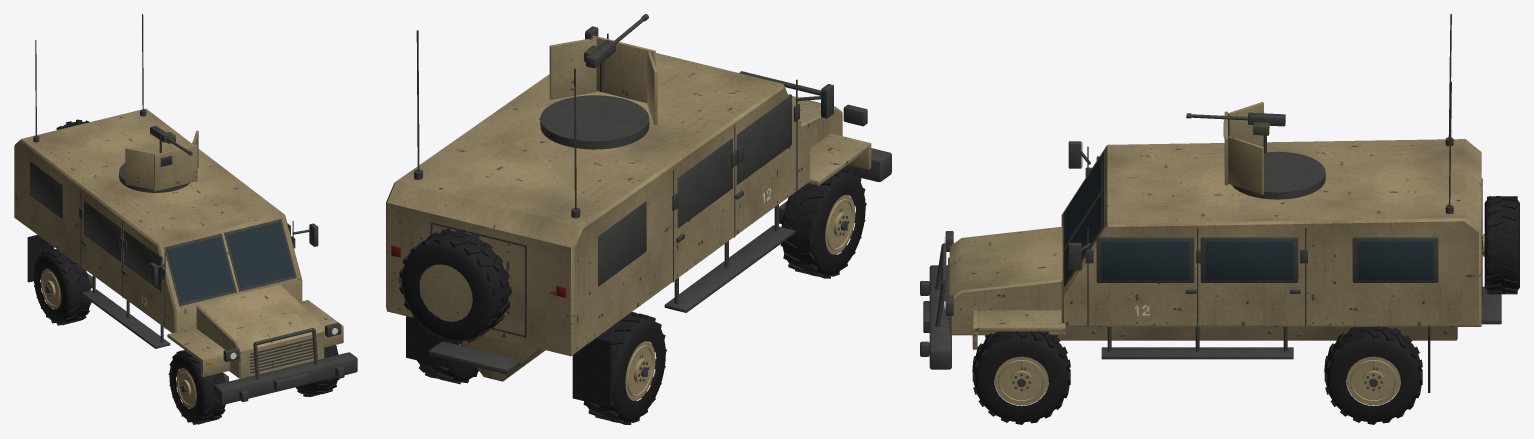
The model's file is mrap-4x4.glb.
3 renders of one model, left to right at view 1: azimuth 30°, elevation 25°; view 2: azimuth 150°, elevation 25°; view 3: azimuth 270°, elevation 25°, orthographic. The views are drawn at different scales.
Parts seen in each view (by area): view 1: Hull, Wheel_BR, Turret, Wheel_FR, Wheel_FL, Gun; view 2: Hull, Turret, Wheel_FR, Wheel_BR, Wheel_BL, Gun; view 3: Hull, Wheel_BL, Wheel_FL, Turret, Gun.
Part boxes in pixels (left/top/right/bottom): Hull: left=14, top=14, right=357, bottom=404; Wheel_BR: left=33, top=249, right=91, bottom=325; Turret: left=119, top=130, right=198, bottom=192; Wheel_FR: left=168, top=350, right=225, bottom=424; Wheel_FL: left=296, top=345, right=339, bottom=397; Gun: left=150, top=126, right=192, bottom=155; Hull: left=386, top=26, right=891, bottom=407; Turret: left=540, top=35, right=657, bottom=149; Wheel_FR: left=780, top=168, right=866, bottom=278; Wheel_BR: left=583, top=312, right=666, bottom=424; Wheel_BL: left=417, top=340, right=478, bottom=384; Gun: left=584, top=14, right=648, bottom=91; Hull: left=920, top=14, right=1519, bottom=392; Wheel_BL: left=1324, top=327, right=1422, bottom=424; Wheel_FL: left=972, top=331, right=1070, bottom=424; Turret: left=1223, top=102, right=1325, bottom=199; Gun: left=1186, top=112, right=1285, bottom=153.
Size of the model in its own units: 3.12 by 4.62 by 7.5.
9 materials, 5 textured.
